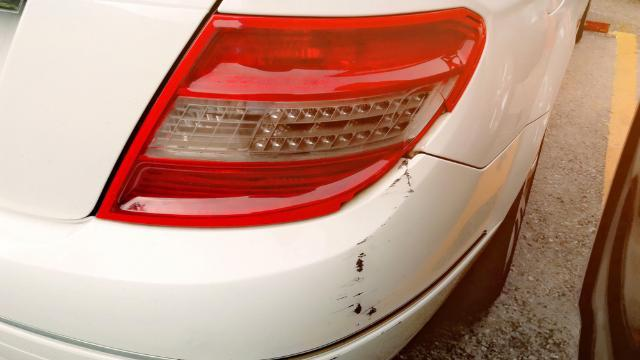lamp broken: (94, 7, 488, 227)
scratch: (349, 157, 420, 322)
